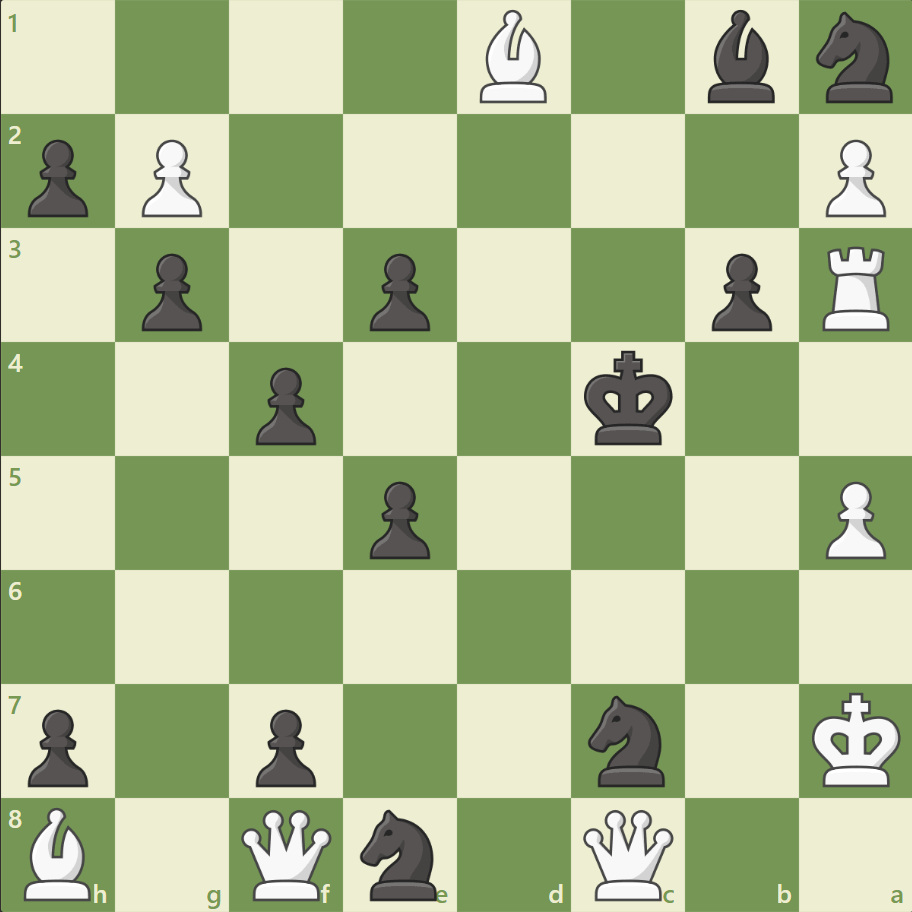B: (17, 801, 101, 904), (471, 6, 555, 109)
K: (806, 685, 906, 793)
P: (133, 132, 208, 223), (815, 473, 889, 564), (815, 132, 889, 223)
Q: (578, 804, 677, 903), (237, 804, 336, 903)
R: (814, 239, 897, 336)
b: (698, 6, 782, 109)
k: (579, 344, 679, 452)
n: (351, 802, 449, 904), (579, 688, 676, 791), (806, 7, 903, 110)
p: (247, 700, 322, 791), (20, 700, 95, 791), (247, 359, 322, 450), (701, 246, 776, 337), (133, 246, 208, 337), (20, 132, 95, 223), (361, 473, 435, 564), (361, 246, 435, 337)
